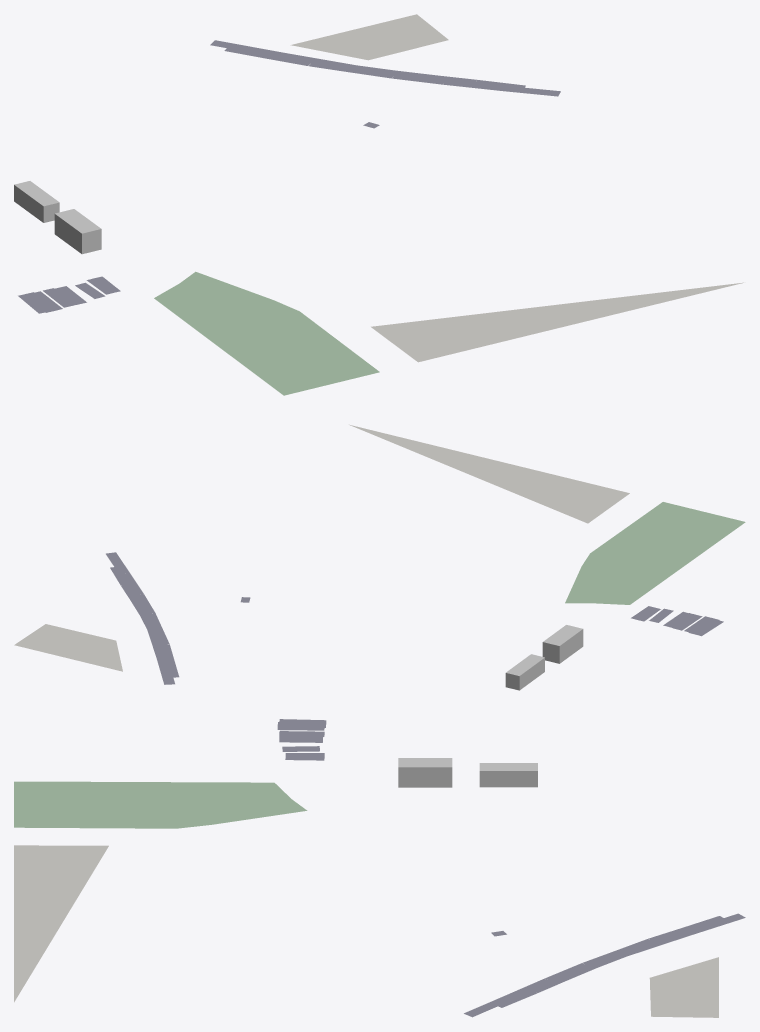
The model's file is 137_105_mid.glb.
The picture shows the model from 3 angles, top to bottom: view 1: azimuth 30°, elevation 25°; view 2: azimuth 150°, elevation 25°; view 3: azimuth 270°, elevation 25°; orthographic projection. The views are drawn at different scales.
Bounding box in the file's own units: 500 × 16.32 × 519.
